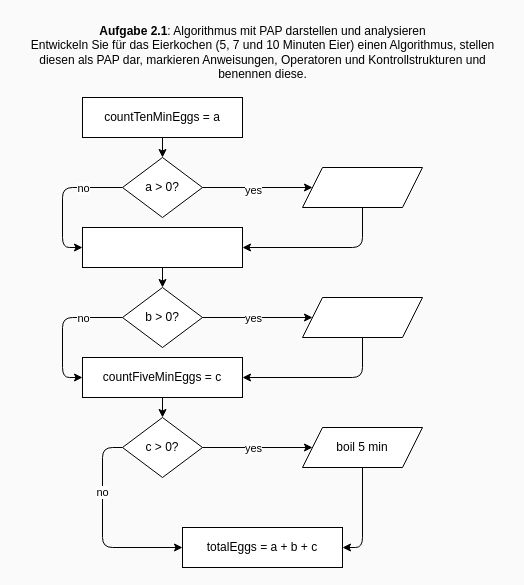
Image size: 524x585. Some labels were removed from this diagram. Here are the shapes that lost their labels. From the top down, the centre of each, then its label:
pixel 362 187: boil 3 min
pixel 162 247: countSevenMinEggs = b
pixel 362 317: boil 2 min
